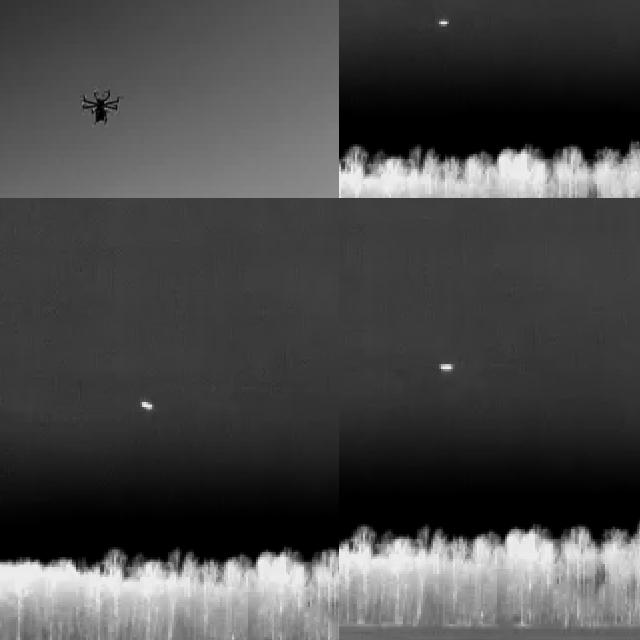1: (431, 14, 461, 34), (136, 397, 166, 417), (435, 359, 465, 379)
drone: (78, 86, 127, 134)
